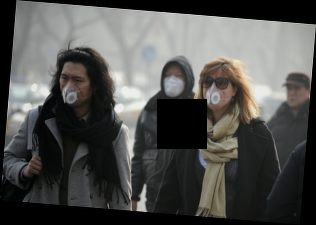with_mask: (58, 70, 89, 106), (203, 74, 233, 110), (162, 69, 185, 99)
without_mask: (285, 83, 306, 108)
